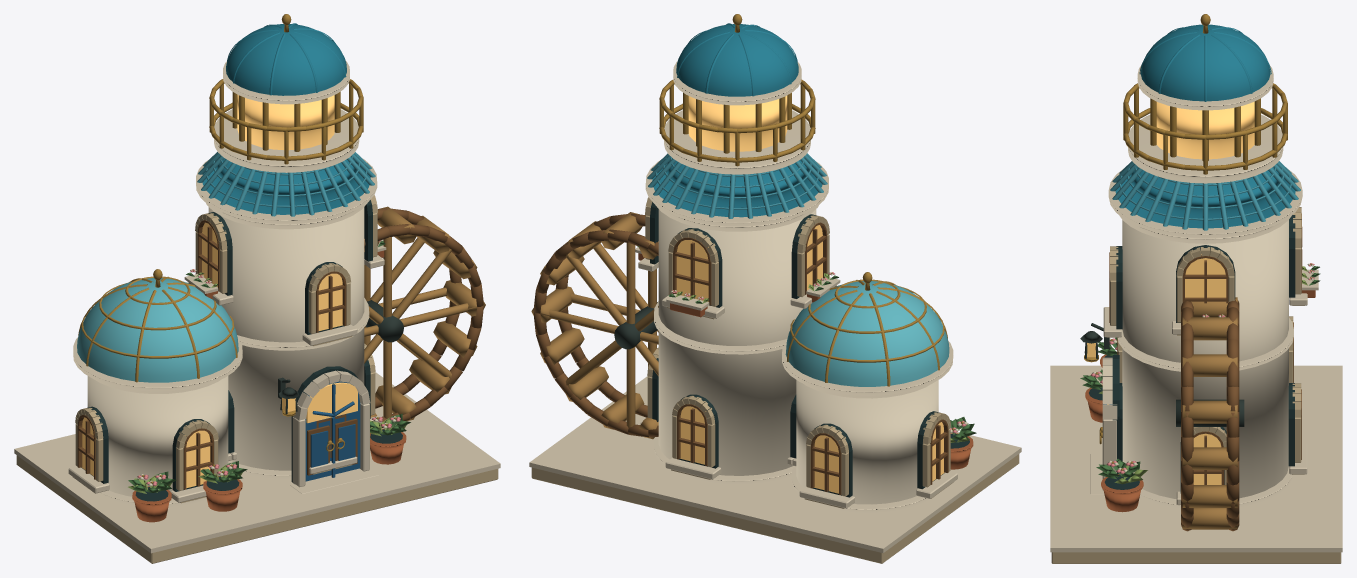
The picture shows the model from 3 angles, left to right: view 1: azimuth 30°, elevation 25°; view 2: azimuth 150°, elevation 25°; view 3: azimuth 270°, elevation 25°; orthographic projection. The views are drawn at different scales.
Visible parts, largest first — view 1: harbor_lighthouse_geometry, harbor_lighthouse_geometry ceramic, harbor_lighthouse_waterwheel_geometry_geometry; view 2: harbor_lighthouse_geometry, harbor_lighthouse_waterwheel_geometry_geometry, harbor_lighthouse_geometry ceramic; view 3: harbor_lighthouse_geometry, harbor_lighthouse_geometry ceramic, harbor_lighthouse_waterwheel_geometry_geometry.
Boxes of the visible parts, x1,y1,x2,y2 form: harbor_lighthouse_geometry: (14, 14, 500, 563); harbor_lighthouse_geometry ceramic: (197, 23, 375, 216); harbor_lighthouse_waterwheel_geometry_geometry: (364, 206, 485, 427); harbor_lighthouse_geometry: (529, 14, 1021, 563); harbor_lighthouse_waterwheel_geometry_geometry: (531, 212, 658, 439); harbor_lighthouse_geometry ceramic: (647, 23, 827, 218); harbor_lighthouse_geometry: (1050, 14, 1342, 563); harbor_lighthouse_geometry ceramic: (1110, 24, 1300, 230); harbor_lighthouse_waterwheel_geometry_geometry: (1176, 297, 1244, 531).
Size of the model in its own units: 2.8 by 3.01 by 1.67.
